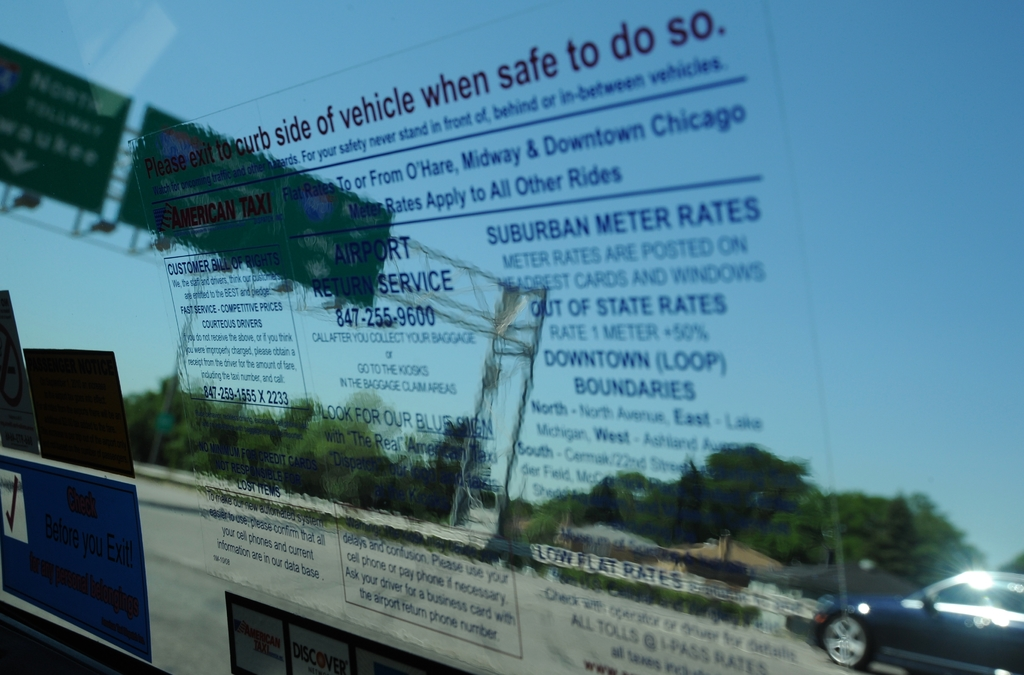Car: (809, 568, 1023, 673)
